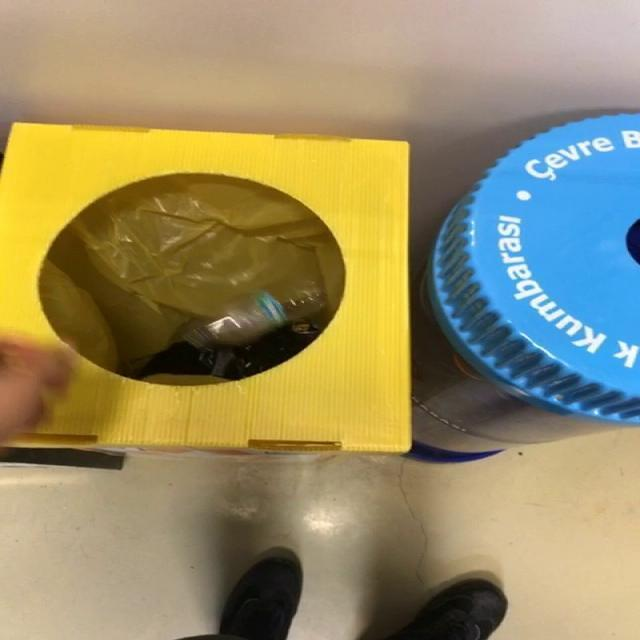Plastic: (181, 283, 327, 348)
